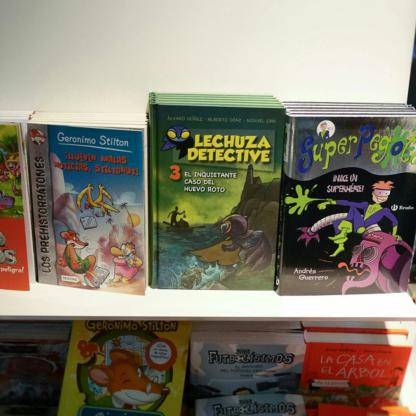book: (0, 319, 415, 416), (24, 106, 160, 318), (144, 94, 286, 292), (278, 100, 416, 298), (0, 106, 34, 289)
